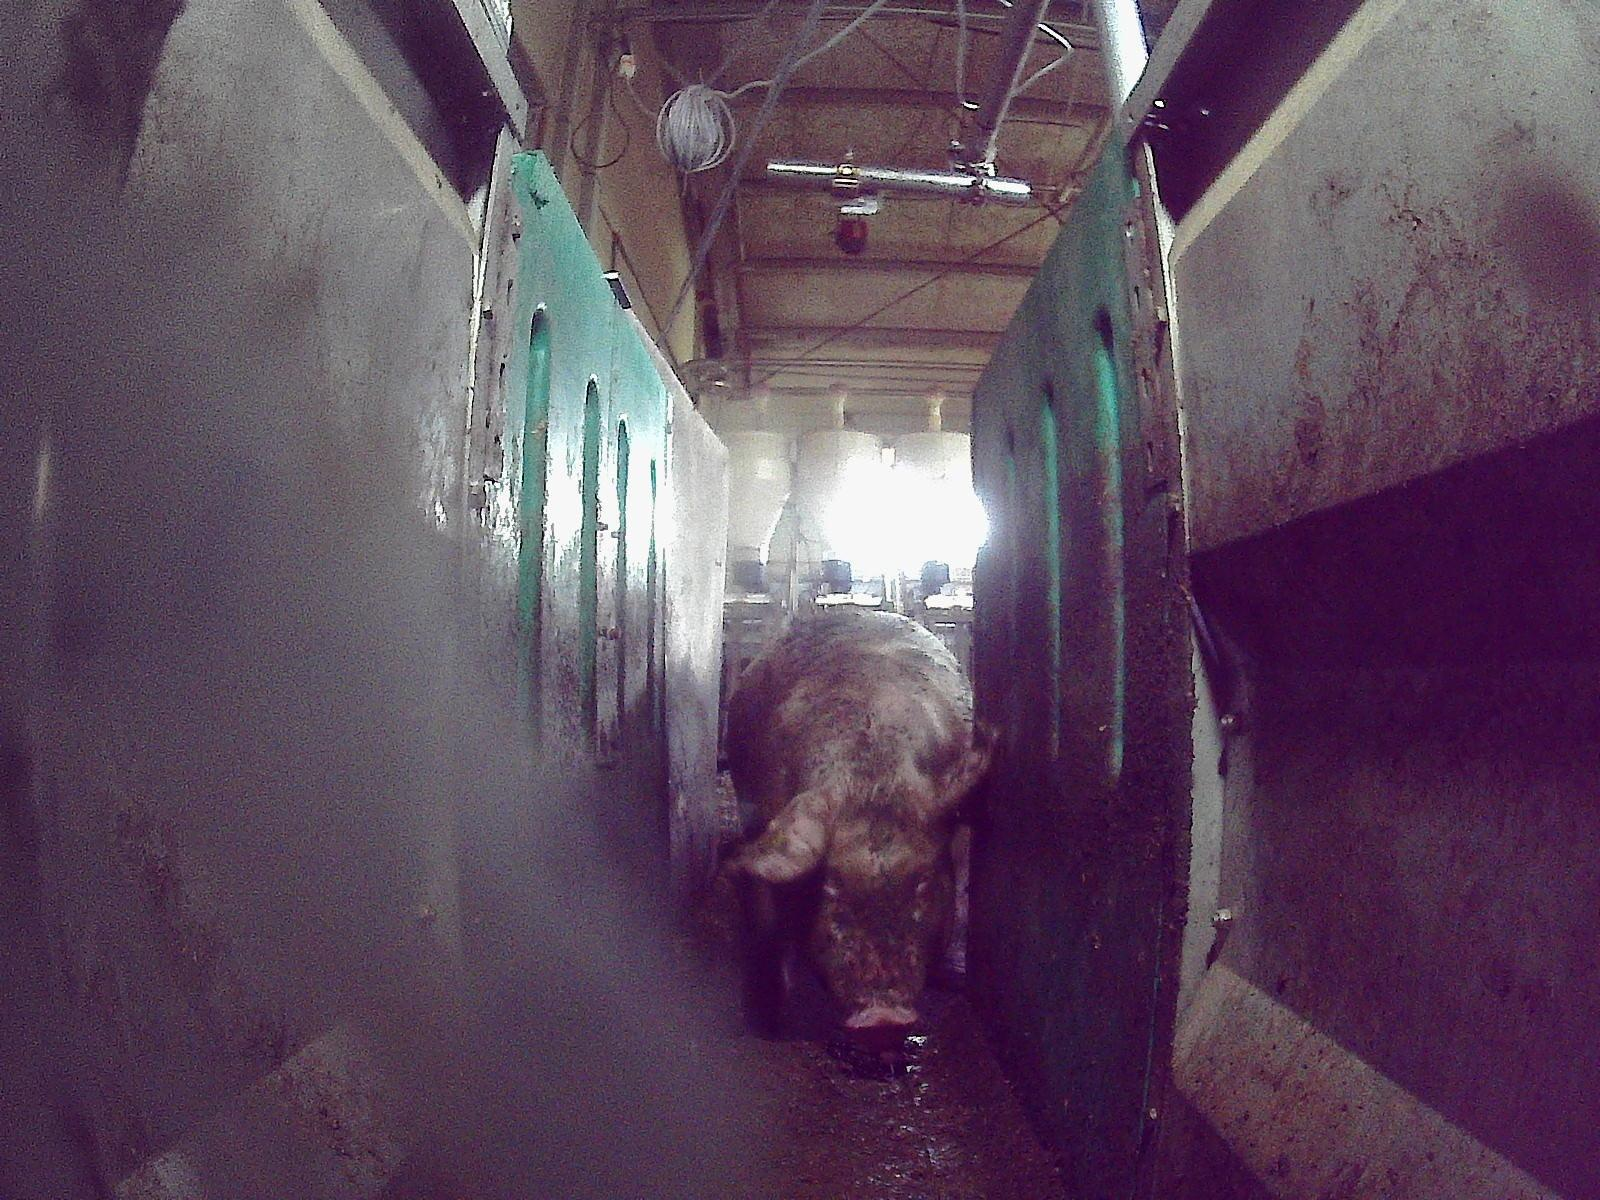Face: (770, 772, 957, 1050)
